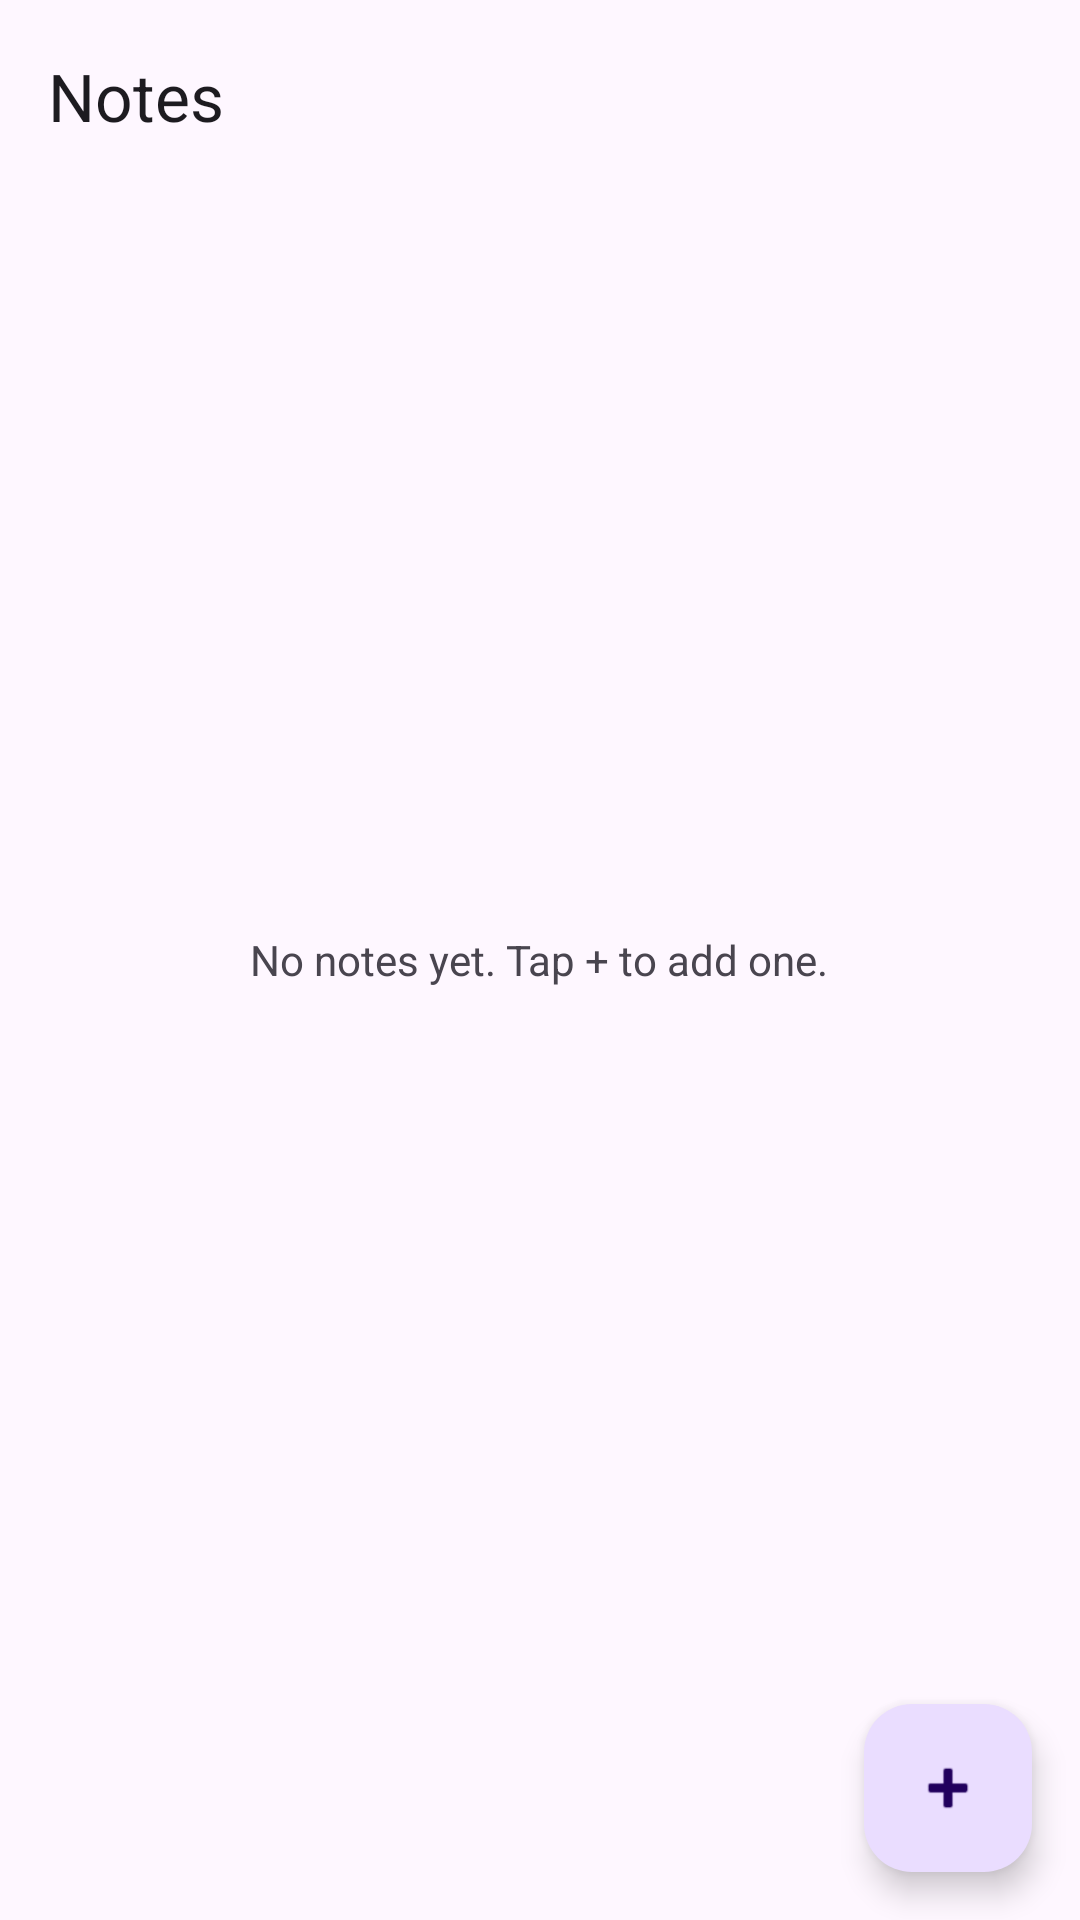

Screen size 1080×1920. Icon name, then its center in pixels as (x,y):
Add note: (948,1788)
